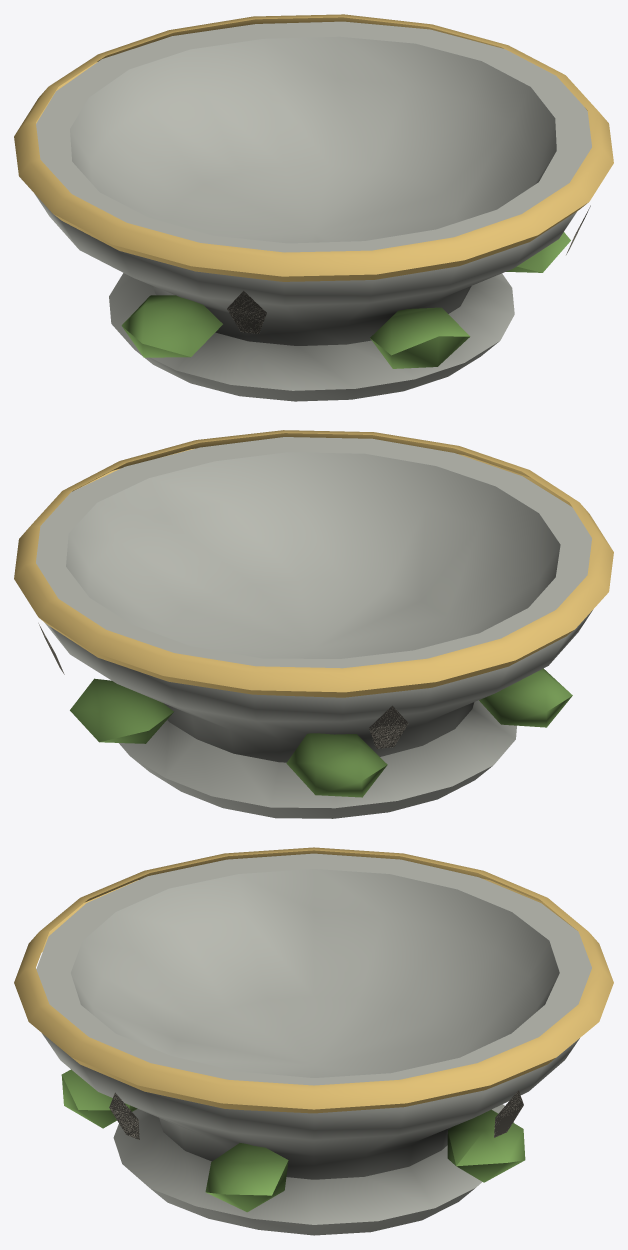
The model's file is EDV2_Basin.fbx.
3 renders of one model, top to bottom at view 1: azimuth 30°, elevation 25°; view 2: azimuth 150°, elevation 25°; view 3: azimuth 270°, elevation 25°, orthographic.
Parts seen in each view (by area): view 1: Stone.001, Hardware.001, Moss.003; view 2: Stone.001, Hardware.001, Moss.003; view 3: Stone.001, Hardware.001, Moss.003.
Part boxes in pixels (bbox=[...]): Stone.001: bbox=[34, 21, 591, 401]; Hardware.001: bbox=[14, 14, 613, 333]; Moss.003: bbox=[121, 232, 570, 368]; Stone.001: bbox=[36, 437, 592, 818]; Hardware.001: bbox=[14, 430, 613, 748]; Moss.003: bbox=[70, 668, 572, 797]; Stone.001: bbox=[36, 853, 591, 1235]; Hardware.001: bbox=[14, 847, 613, 1139]; Moss.003: bbox=[61, 1069, 525, 1212].
Bounding box in the file's own units: 0.165 × 0.0575 × 0.165.
